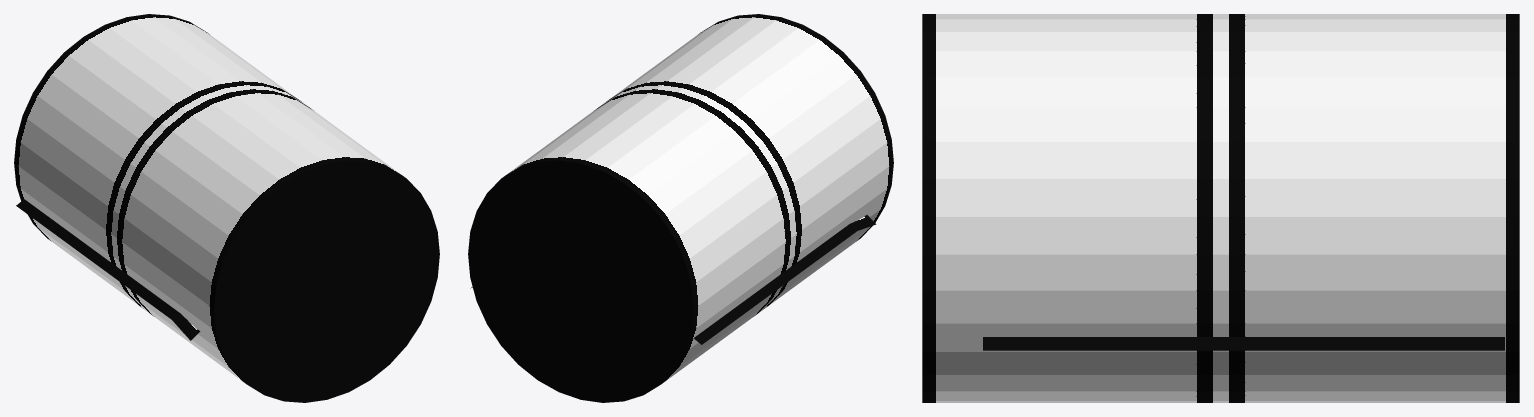
File: butano.fbx
The picture shows the model from 3 angles, left to right: view 1: azimuth 30°, elevation 25°; view 2: azimuth 150°, elevation 25°; view 3: azimuth 270°, elevation 25°; orthographic projection. The views are drawn at different scales.
Visible parts, largest first — view 1: Cylinder, Plane; view 2: Cylinder, Plane; view 3: Cylinder, Plane.
Part boxes in pixels (left/top/right/bottom): Cylinder: left=14, top=14, right=439, bottom=402; Plane: left=16, top=199, right=200, bottom=340; Cylinder: left=468, top=14, right=893, bottom=402; Plane: left=470, top=215, right=876, bottom=344; Cylinder: left=922, top=14, right=1519, bottom=402; Plane: left=983, top=337, right=1504, bottom=350.
Bounding box in the file's own units: 200 × 195 × 299.
Materials: 1 (1 with a texture image).
